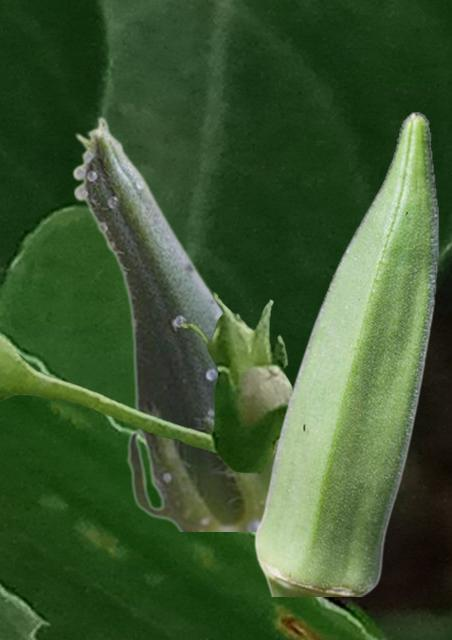okra: (254, 111, 438, 595), (71, 116, 273, 530)
